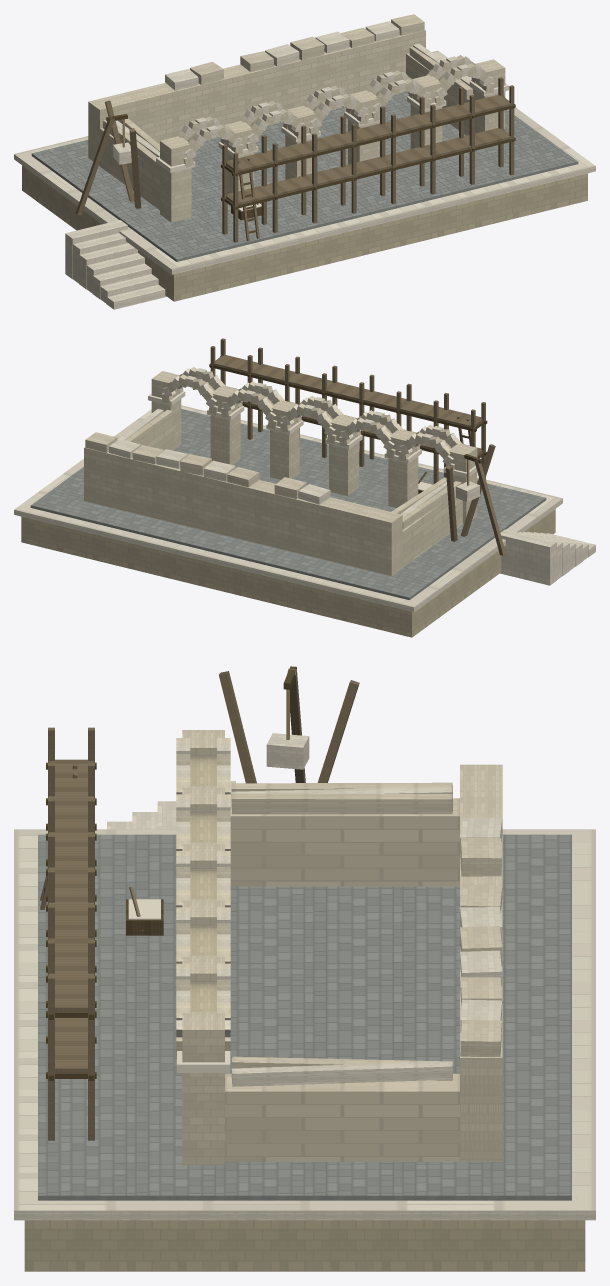
Rendered from pol-4-construction.glb.
3 renders of one model, top to bottom at view 1: azimuth 30°, elevation 25°; view 2: azimuth 150°, elevation 25°; view 3: azimuth 270°, elevation 25°, orthographic. The views are drawn at different scales.
Size of the model in its own units: 37.5 by 10.02 by 21.8.
22 materials, 19 textured.
